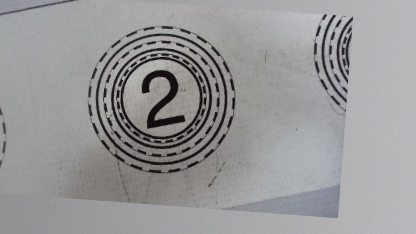2r: (80, 18, 241, 180)
